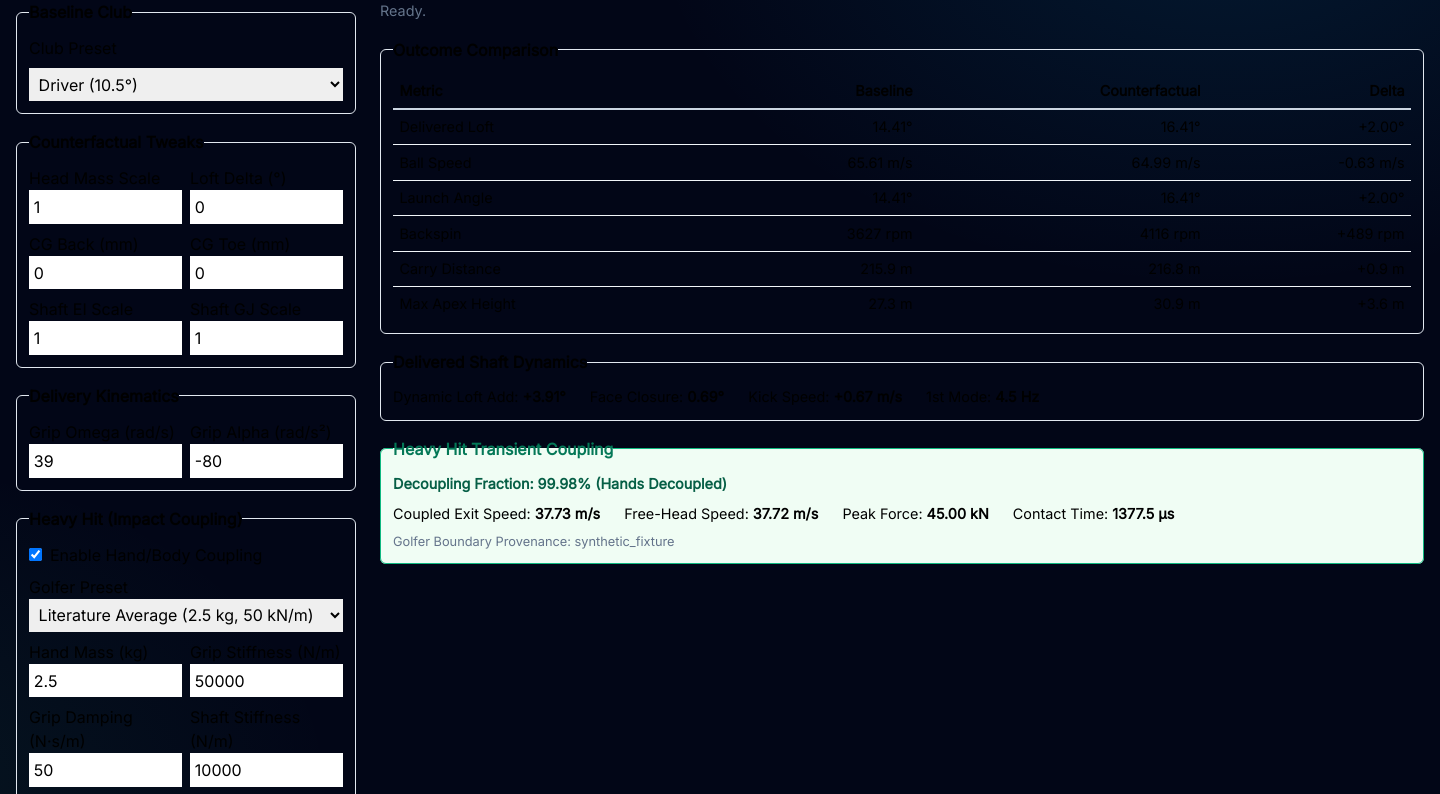
Scenario: ClubTesterPanel component › toggles heavy hit coupling section
Expected: the text "Decoupling Fraction: 99.98% (Hands Decoupled)" is shown, [393,475,727,492]
What coordinates should you click on to do the following:
click the checkbox named "Enable Heavy Hit Coupling"
I would click on:
 (36, 555)
Its box is [29,548,42,561].
(page scrolled)
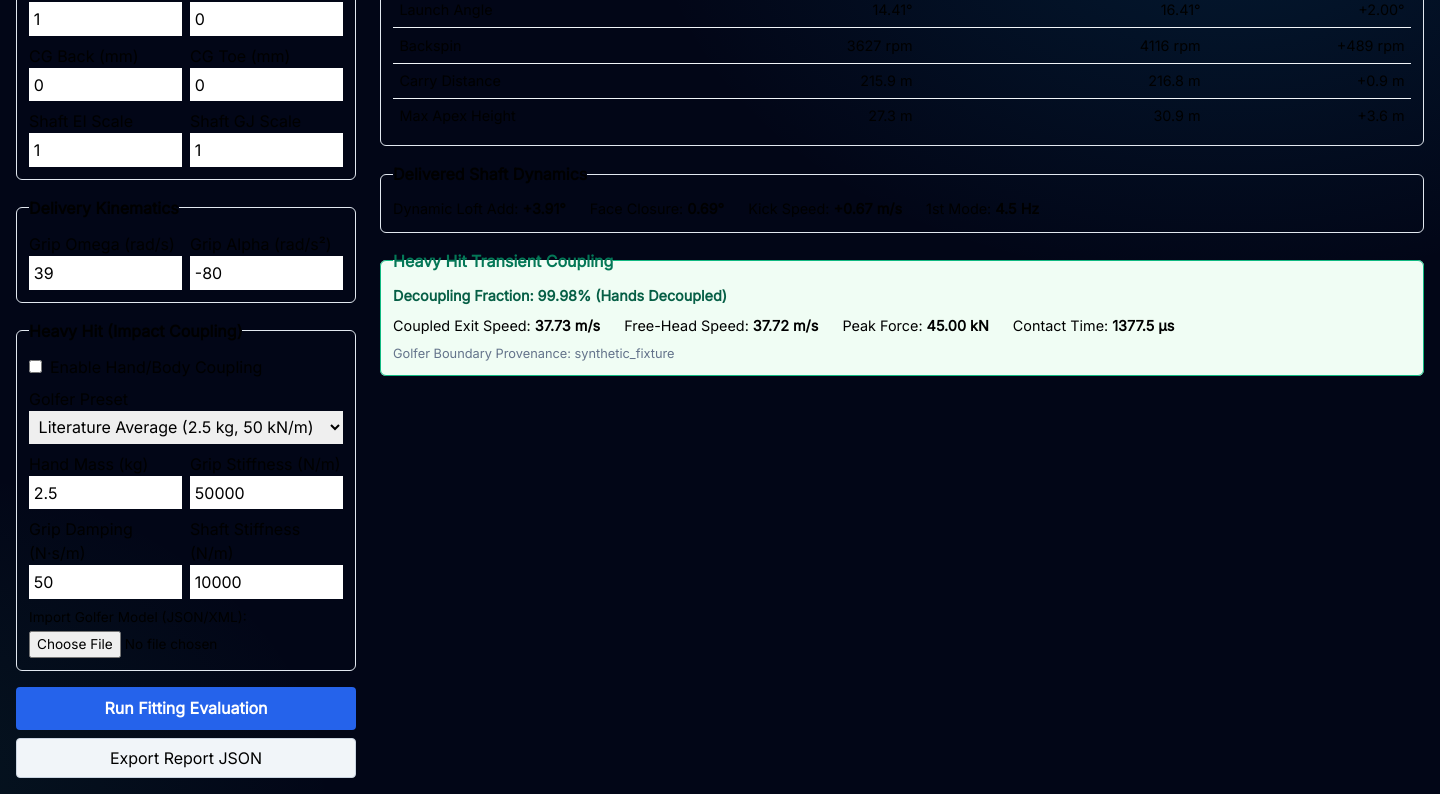
What coordinates should you click on to do the following:
click the button with aria-label "Run Club Tester Evaluation"
I would click on:
 (186, 708)
Its box is [16,687,356,730].
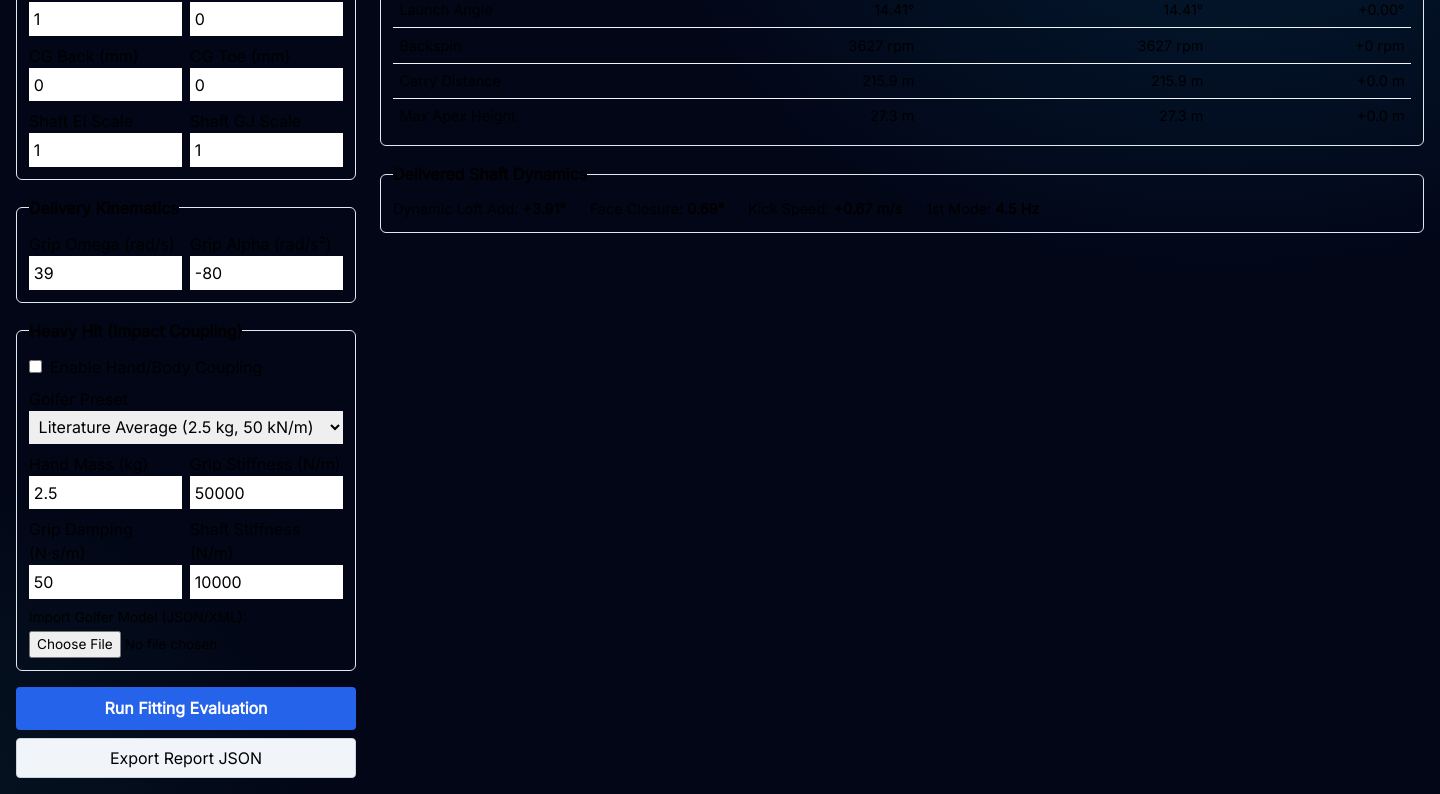
Now the text "Decoupling Fraction:" is gone
